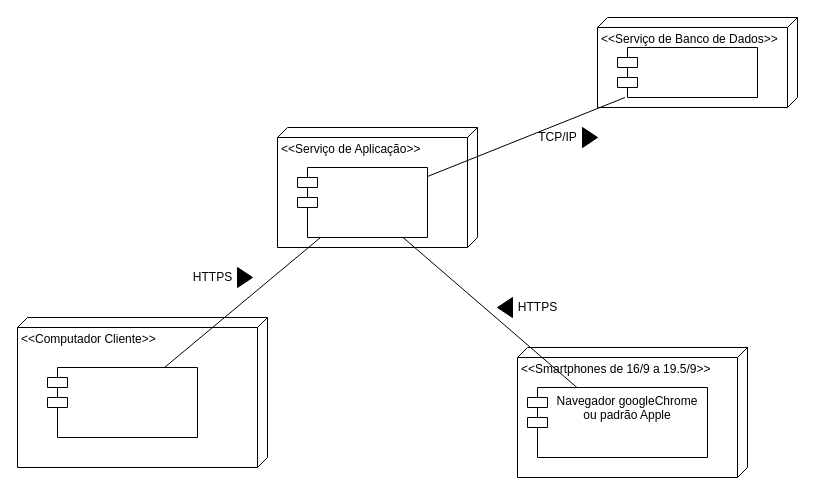
Image size: 815x495. Some labels were removed from this diagram. The shapes that lost their labels are listed below. From the top down, each one's centre as x and y in pixels, then its label:
At (687,72): "MySQL 8.0".
At (362,202): "Strem Games PHP 7.4 Apache 2.4 Fedora-server 35".
At (122,402): "Browser com suporte a HTML5 e CSS 3".
